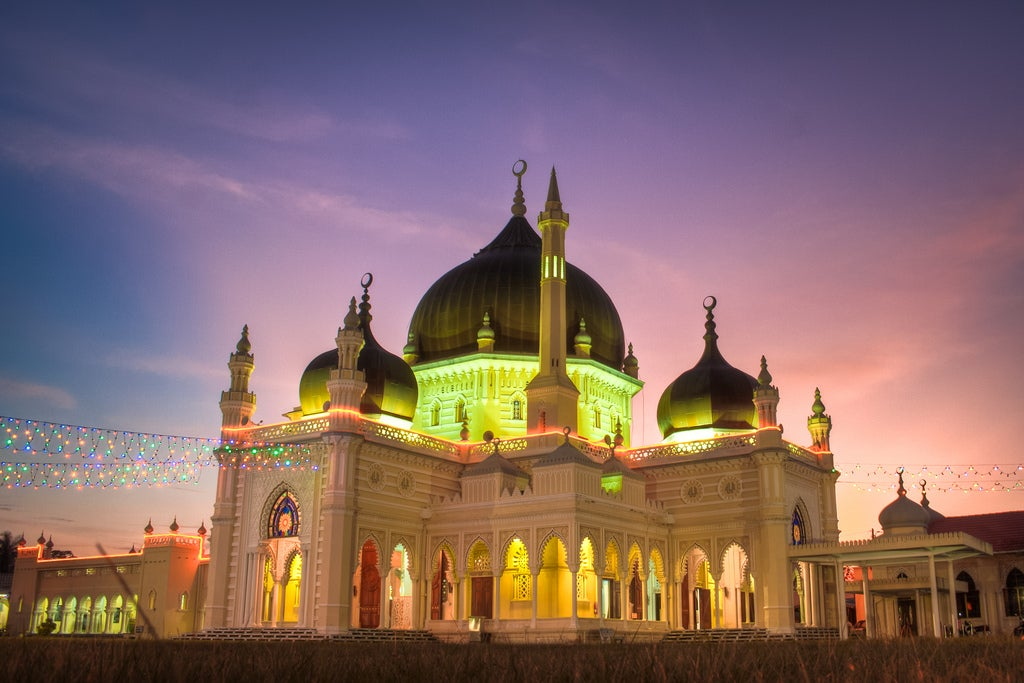Mosque: (187, 148, 841, 626)
